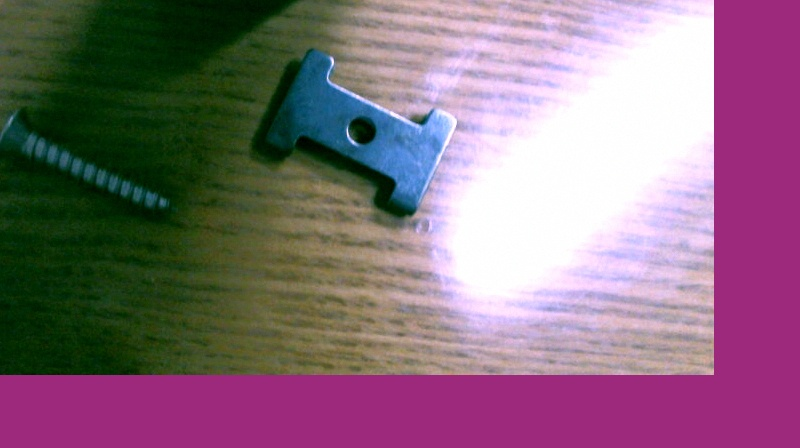O002: (258, 45, 463, 218)
S001: (0, 102, 177, 216)
